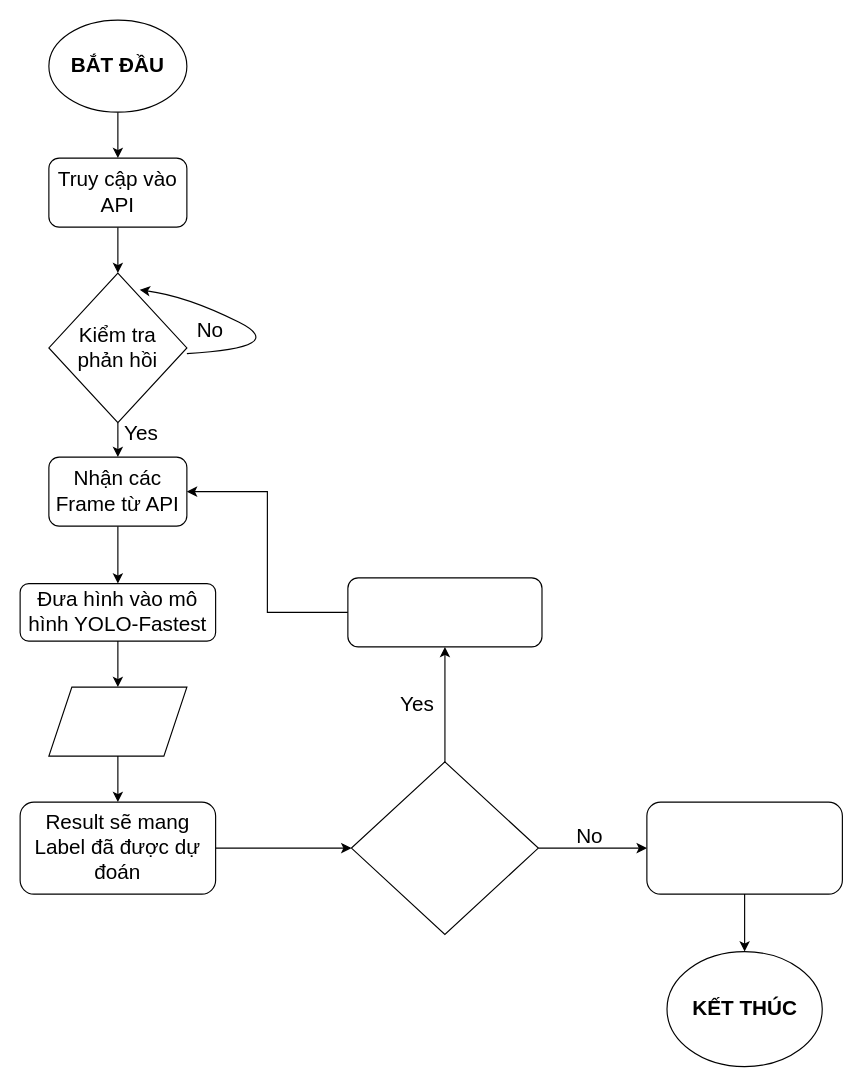
Image size: 863x1087. Some labels were removed from this diagram. Here are the shapes that lost their labels. From the top down, the centre of each, then its label:
point 444,612: Trả giá trị 0 về API
point 117,721: Result
point 444,847: Result mang một label "NoMask"
point 744,847: Trả giá trị 1 về API
